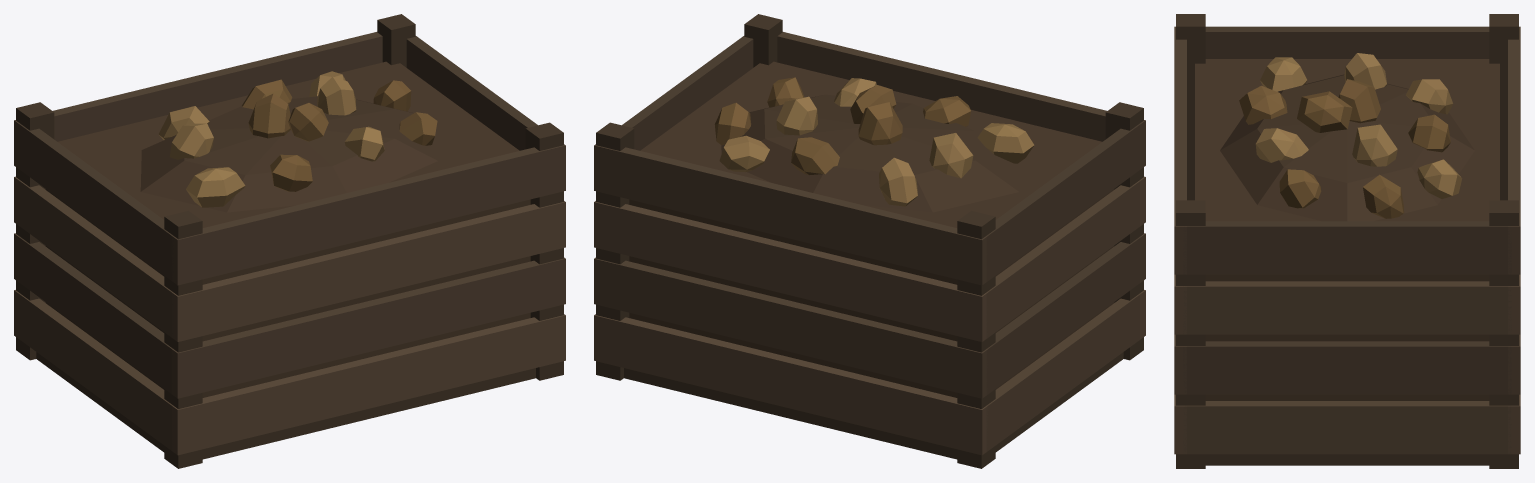
File: prop_crate.glb
3 renders of one model, left to right at view 1: azimuth 30°, elevation 25°; view 2: azimuth 150°, elevation 25°; view 3: azimuth 270°, elevation 25°, orthographic. The views are drawn at different scales.
Visible parts, largest first — view 1: prop_crate; view 2: prop_crate; view 3: prop_crate.
Boxes of the visible parts, bbox=[...] form: prop_crate: bbox=[14, 14, 565, 468]; prop_crate: bbox=[594, 14, 1145, 468]; prop_crate: bbox=[1174, 14, 1520, 468].
Size of the model in its own units: 1.04 by 0.679 by 0.76.
